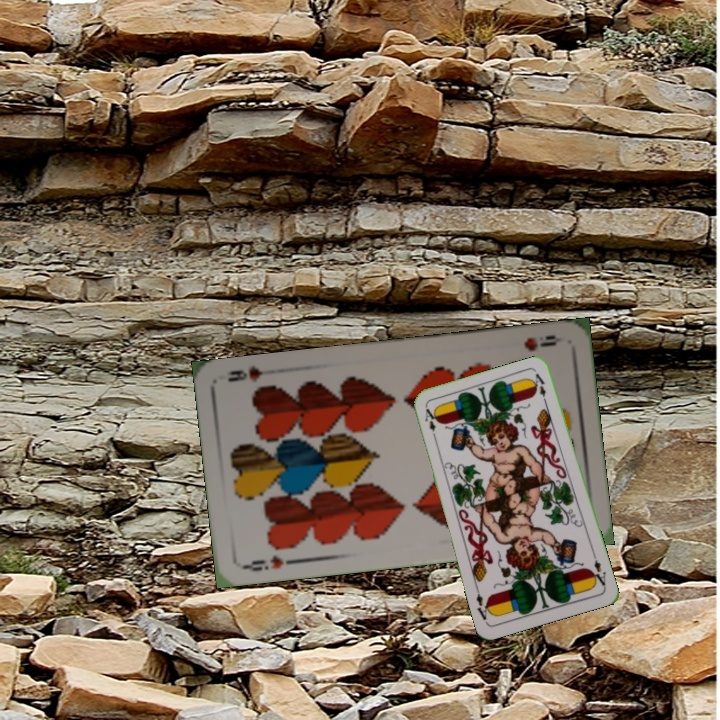EA: (587, 550, 608, 590), (421, 403, 440, 443)
H9: (239, 551, 286, 574), (520, 331, 559, 354)
